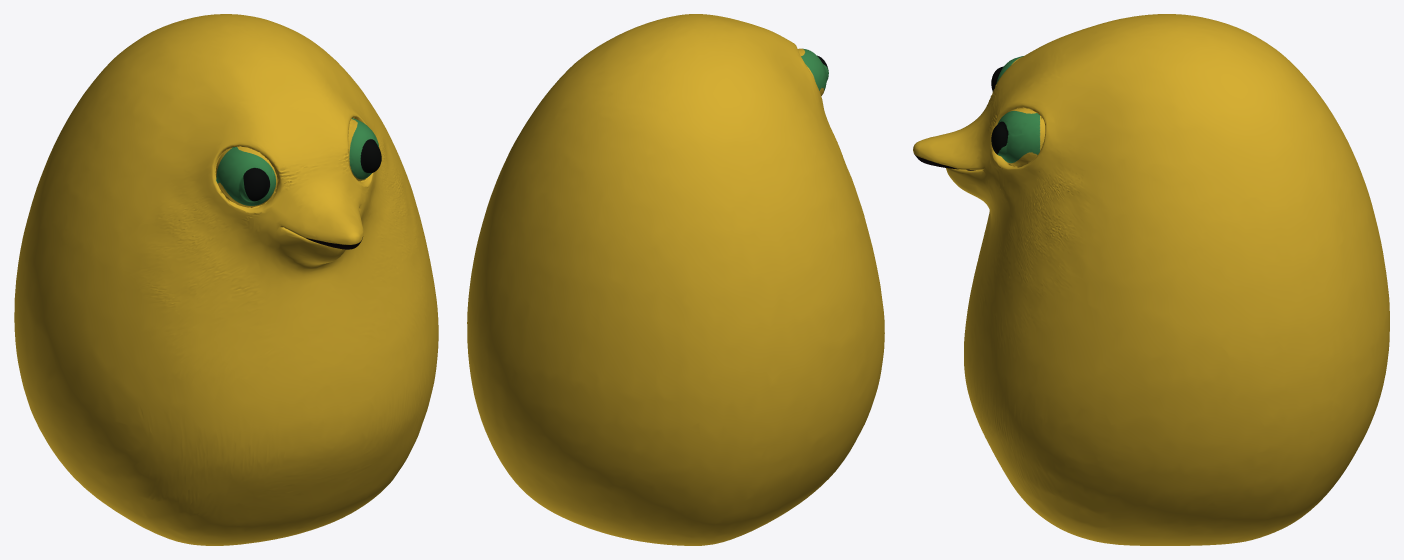
File: egg.glb
The picture shows the model from 3 angles, left to right: view 1: azimuth 30°, elevation 25°; view 2: azimuth 150°, elevation 25°; view 3: azimuth 270°, elevation 25°; orthographic projection. The views are drawn at different scales.
Visible parts, largest first — view 1: geometry_0; view 2: geometry_0; view 3: geometry_0.
Part boxes in pixels (x1,y1,x2,y2): geometry_0: (14,14,438,545); geometry_0: (467,14,884,545); geometry_0: (913,14,1389,545).
Bounding box in the file's own units: 2.85 × 3.6 × 3.21.
